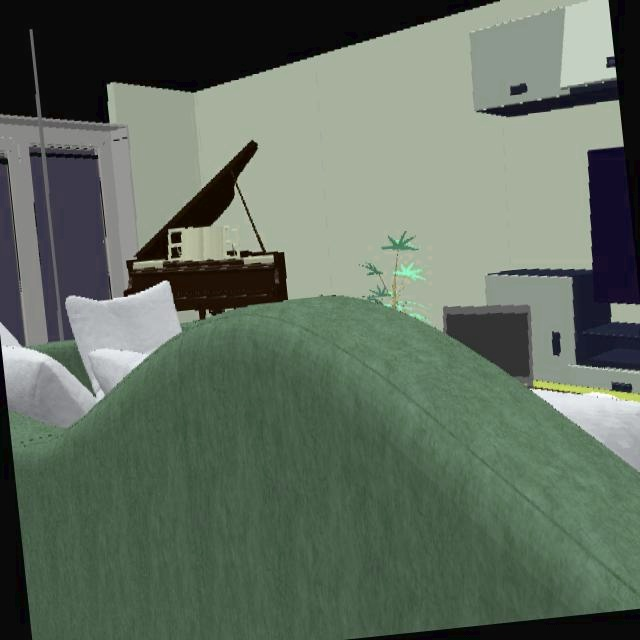cabinet: (484, 270, 640, 395), (469, 0, 618, 119)
laptop: (444, 307, 533, 384)
monitor: (587, 146, 640, 307)
pillow: (14, 280, 182, 428)
sofa: (8, 295, 640, 640)
